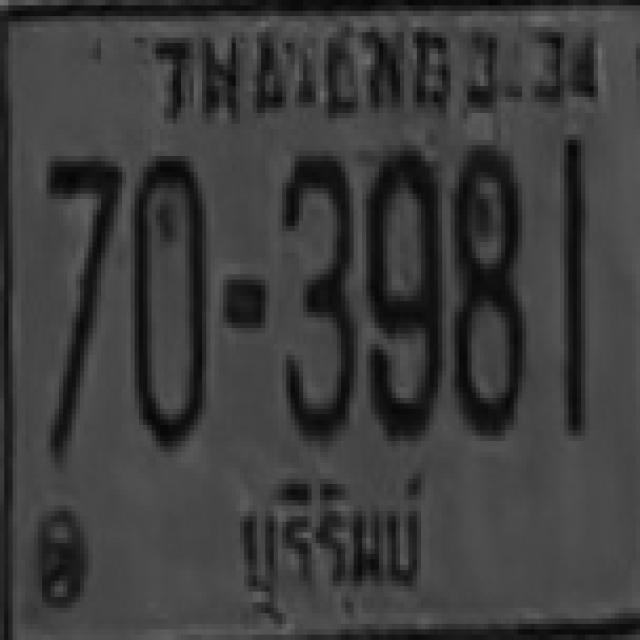0: (130, 151, 207, 441), (362, 145, 438, 323)
1: (560, 134, 585, 382)
3: (278, 150, 354, 436)
7: (44, 153, 120, 331)
8: (451, 142, 522, 433)
9: (362, 150, 438, 436)
Buriram: (232, 464, 434, 622)
